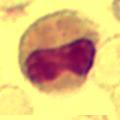monocyte: (16, 6, 100, 100)
